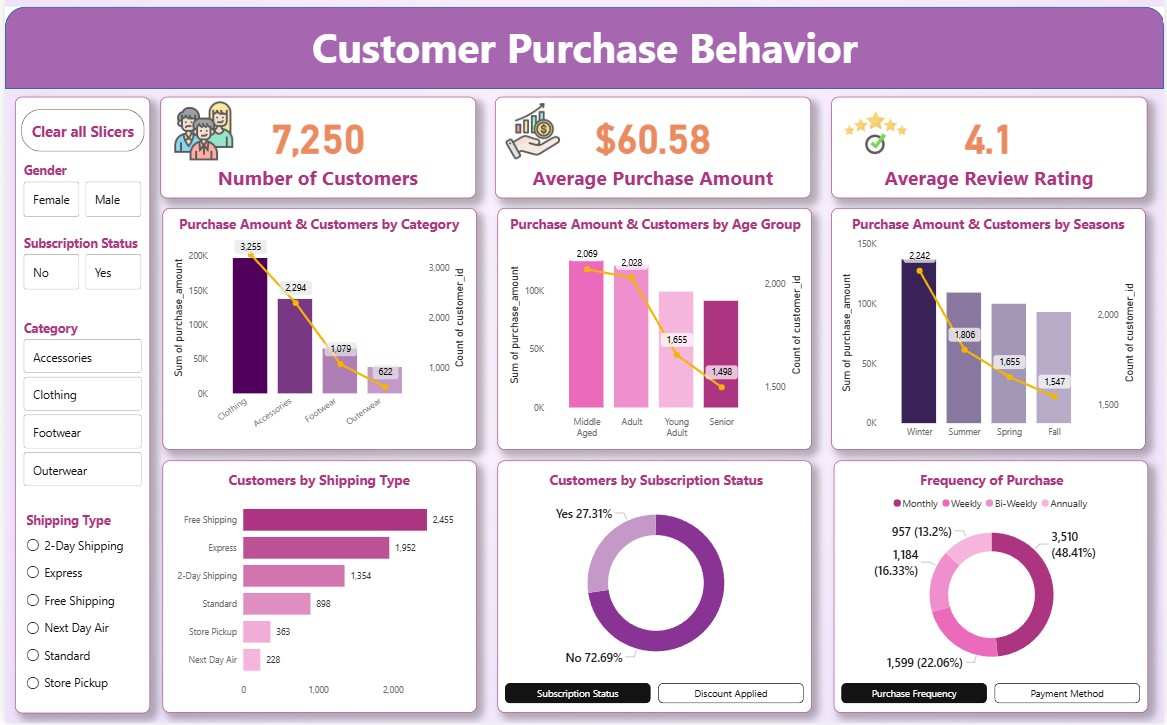

Layout of this report page (visuals, bound fields, positions):
{"tool":"powerbi","page":{"name":"Customer Purchase Behavior","canvas":[1600,1000],"ordinal":0},"visuals":[{"type":"card","fields":{"Values":["_Measures.Number of Customers"]},"box":[214,136,436,140],"z":0},{"type":"card","fields":{"Values":["_Measures.Average Purchase Amount"]},"box":[676,136,436,140],"z":1000},{"type":"card","fields":{"Values":["_Measures.Average Review Rating"]},"box":[1140,136,436,140],"z":2000},{"type":"shape","box":[0,11.7,1600,113.3],"z":3000},{"type":"textbox","box":[343.3,30,913.3,78.3],"z":4000},{"type":"shape","box":[216.7,290,433.3,333.3],"z":5000},{"type":"shape","box":[14,136,186,850],"z":6000},{"type":"advancedSlicerVisual","title":"Category","fields":{"Values":["Customers.category"]},"box":[20,443.3,173.3,236.7],"z":7000},{"type":"listSlicer","title":"Shipping Type","fields":{"Values":["Customers.shipping_type"]},"box":[25,708.3,171.7,265],"z":8000},{"type":"actionButton","box":[21.7,153.3,170,58.3],"z":9000},{"type":"advancedSlicerVisual","title":"Gender","fields":{"Values":["Customers.gender"]},"box":[20,225,173.3,81.7],"z":10000},{"type":"advancedSlicerVisual","title":"Subscription Status","fields":{"Values":["Customers.subscription_status"]},"box":[20,326.7,173.3,81.7],"z":11000},{"type":"image","box":[226,142,96,84],"z":12000},{"type":"image","box":[688,142,80,84],"z":13000},{"type":"image","box":[1152,144,98,82],"z":14000},{"type":"shape","box":[680,290,433.3,333.3],"z":15000},{"type":"shape","box":[1140,290,433.3,333.3],"z":16000},{"type":"shape","box":[216.7,638.3,433.3,348.3],"z":17000},{"type":"shape","box":[680,638.3,433.3,348.3],"z":18000},{"type":"shape","box":[1143.3,638.3,433.3,348.3],"z":19000},{"type":"lineStackedColumnComboChart","title":"Purchase Amount & Customers by Category","fields":{"Category":["Customers.category"],"Y":["Sum(Customers.purchase_amount)"],"Y2":["CountNonNull(Customers.customer_id)"]},"box":[226.4,298.2,414.5,317.3],"z":20000},{"type":"lineStackedColumnComboChart","title":"Purchase Amount & Customers by Age Group","fields":{"Y":["Sum(Customers.purchase_amount)"],"Y2":["CountNonNull(Customers.customer_id)"],"Category":["Customers.age_group"]},"box":[688.9,297.8,414.4,317.8],"z":21000},{"type":"lineStackedColumnComboChart","title":"Purchase Amount & Customers by Seasons","fields":{"Y":["Sum(Customers.purchase_amount)"],"Y2":["CountNonNull(Customers.customer_id)"],"Category":["Customers.season"]},"box":[1148.3,298.3,415,318.3],"z":22000},{"type":"clusteredBarChart","title":"Customers by Shipping Type","fields":{"Category":["Customers.shipping_type"],"Y":["CountNonNull(Customers.customer_id)"]},"box":[226.7,651.7,415,321.7],"z":23000},{"type":"donutChart","title":"Customers by Subscription Status","fields":{"Y":["CountNonNull(Customers.customer_id)"],"Category":["Customers.subscription_status"]},"box":[690,652.5,416.7,285.8],"z":24000},{"type":"donutChart","title":"Frequency of Purchase","fields":{"Y":["CountNonNull(Customers.customer_id)"],"Category":["Customers.frequency_of_purchases"]},"box":[1153.3,651.7,415,288.3],"z":27000},{"type":"bookmarkNavigator","box":[690,945.5,413.6,28.2],"z":28000},{"type":"bookmarkNavigator","box":[1153.3,945,413.3,28.3],"z":29000}]}

Visuals, with their boxes in screenshot pixels (x1, y1, x2, y2), scaled from the page's 1600x1000 canvas onto the 1167x725 screenshot:
card - _Measures.Number of Customers: select_region(156, 99, 474, 200)
card - _Measures.Average Purchase Amount: select_region(493, 99, 811, 200)
card - _Measures.Average Review Rating: select_region(831, 99, 1149, 200)
shape: select_region(0, 8, 1166, 91)
textbox: select_region(250, 22, 917, 79)
shape: select_region(158, 210, 474, 452)
shape: select_region(10, 99, 146, 715)
"Category" advancedSlicerVisual: select_region(15, 321, 141, 493)
"Shipping Type" listSlicer: select_region(18, 514, 143, 706)
actionButton: select_region(16, 111, 140, 153)
"Gender" advancedSlicerVisual: select_region(15, 163, 141, 222)
"Subscription Status" advancedSlicerVisual: select_region(15, 237, 141, 296)
image: select_region(165, 103, 235, 164)
image: select_region(502, 103, 560, 164)
image: select_region(840, 104, 912, 164)
shape: select_region(496, 210, 812, 452)
shape: select_region(831, 210, 1148, 452)
shape: select_region(158, 463, 474, 715)
shape: select_region(496, 463, 812, 715)
shape: select_region(834, 463, 1150, 715)
"Purchase Amount & Customers by Category" lineStackedColumnComboChart: select_region(165, 216, 467, 446)
"Purchase Amount & Customers by Age Group" lineStackedColumnComboChart: select_region(502, 216, 805, 446)
"Purchase Amount & Customers by Seasons" lineStackedColumnComboChart: select_region(838, 216, 1140, 447)
"Customers by Shipping Type" clusteredBarChart: select_region(165, 472, 468, 706)
"Customers by Subscription Status" donutChart: select_region(503, 473, 807, 680)
"Frequency of Purchase" donutChart: select_region(841, 472, 1144, 682)
bookmarkNavigator: select_region(503, 685, 805, 706)
bookmarkNavigator: select_region(841, 685, 1143, 706)
